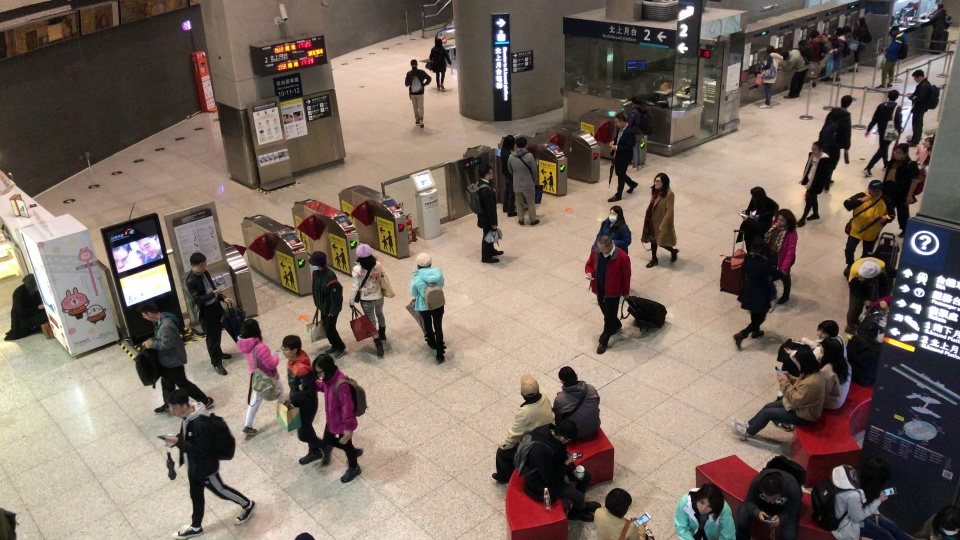person_head: (859, 455, 890, 491), (605, 487, 632, 518), (165, 387, 190, 415), (696, 486, 721, 514), (793, 348, 820, 373), (818, 337, 843, 362), (760, 473, 783, 500), (311, 353, 335, 378), (280, 334, 302, 359), (555, 418, 577, 443), (519, 376, 539, 402), (941, 509, 959, 536), (239, 318, 262, 339), (816, 319, 839, 339), (137, 301, 159, 321), (558, 366, 578, 387), (308, 250, 327, 270), (356, 243, 375, 263), (189, 252, 207, 273), (775, 208, 793, 227), (596, 234, 613, 254), (653, 172, 670, 189), (867, 179, 883, 197), (415, 252, 432, 268), (894, 142, 910, 159), (608, 205, 624, 222), (750, 185, 766, 202), (750, 237, 766, 254), (22, 273, 37, 290), (478, 164, 493, 180), (911, 68, 926, 83), (839, 94, 853, 108), (887, 88, 900, 102), (502, 135, 514, 150), (614, 113, 626, 128), (810, 140, 822, 155), (515, 136, 528, 148), (856, 15, 866, 26), (890, 24, 900, 35), (631, 98, 644, 106), (934, 1, 945, 10), (766, 45, 776, 54), (409, 58, 418, 67), (434, 38, 443, 47), (781, 51, 790, 60), (834, 26, 844, 34), (810, 30, 820, 37)
person_vbox: (162, 388, 256, 540), (513, 418, 602, 523), (729, 348, 826, 441), (138, 301, 215, 415), (810, 455, 909, 540), (767, 338, 853, 433), (310, 352, 367, 483), (491, 375, 554, 483), (183, 251, 234, 378), (736, 455, 807, 539), (235, 318, 284, 436), (279, 334, 322, 467), (584, 235, 632, 354), (348, 242, 395, 361), (842, 178, 896, 277), (731, 237, 776, 350), (409, 251, 446, 363), (308, 249, 346, 358), (465, 164, 504, 265), (860, 88, 903, 177), (551, 365, 601, 441), (640, 172, 679, 268), (674, 482, 736, 540), (883, 142, 920, 238), (783, 319, 848, 373), (817, 94, 852, 194), (763, 209, 798, 307), (593, 488, 654, 540), (795, 140, 831, 228), (734, 185, 779, 255), (3, 273, 48, 341), (507, 135, 540, 226), (606, 113, 639, 203), (906, 68, 940, 145), (874, 24, 908, 89), (590, 205, 632, 255), (626, 97, 654, 171), (404, 59, 432, 128), (780, 44, 815, 98), (757, 45, 783, 110), (913, 504, 959, 540), (805, 30, 832, 89), (824, 27, 851, 83), (500, 135, 517, 217), (848, 16, 872, 72), (428, 38, 452, 91), (927, 1, 952, 31)
